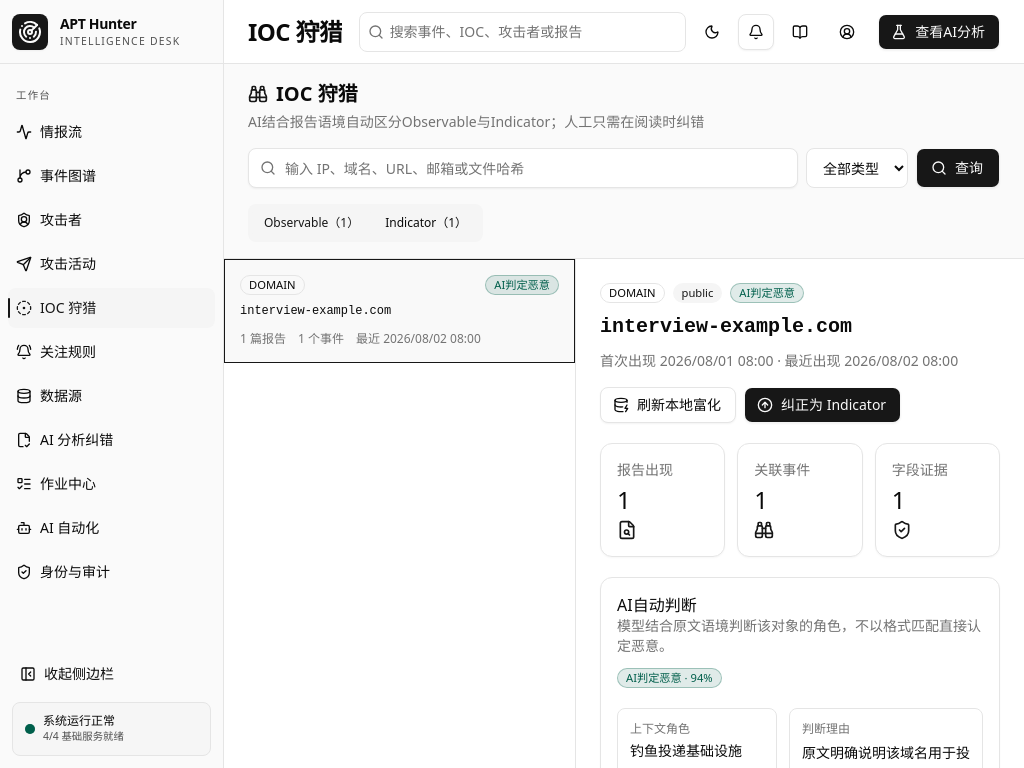
IOC hunting › shows the AI verdict and keeps manual promotion as a correction
This screenshot has width=1024, height=768.
Later steps or results of the test are not shown.
Expected: the 1st text "AI判定恶意" is shown, [485,275,559,295]
Click the button "纠正为 Indicator" at (823, 405), box [744,387,901,423]
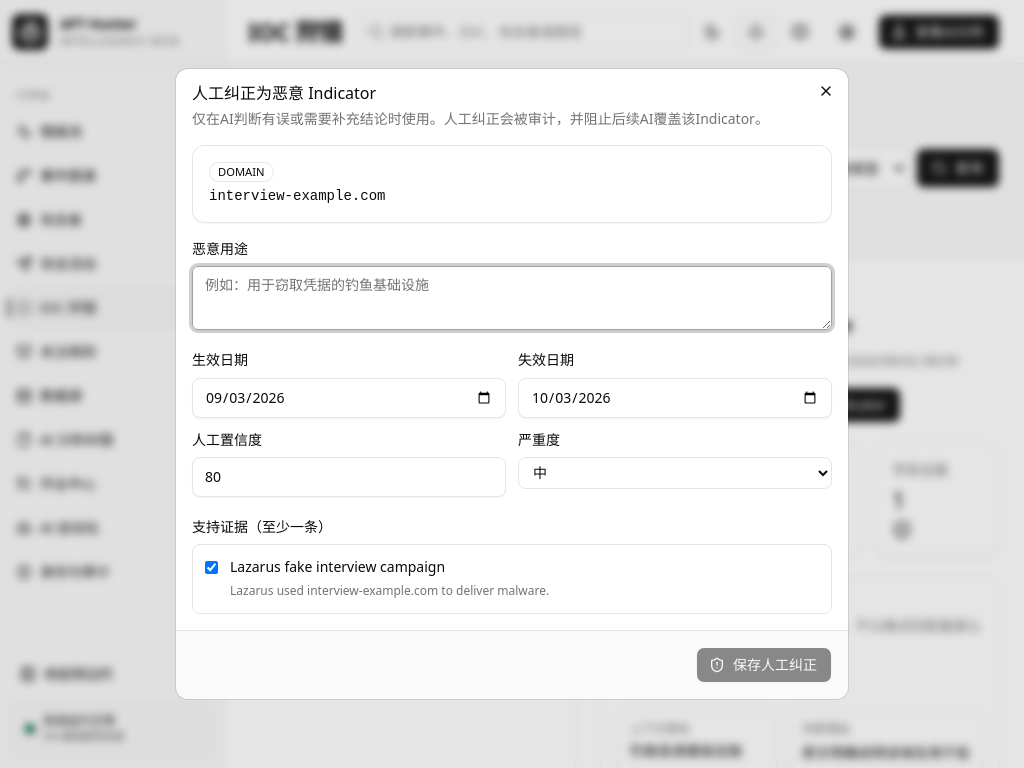
Now the heading "人工纠正为恶意 Indicator" is shown, box [192,82,376,104]
